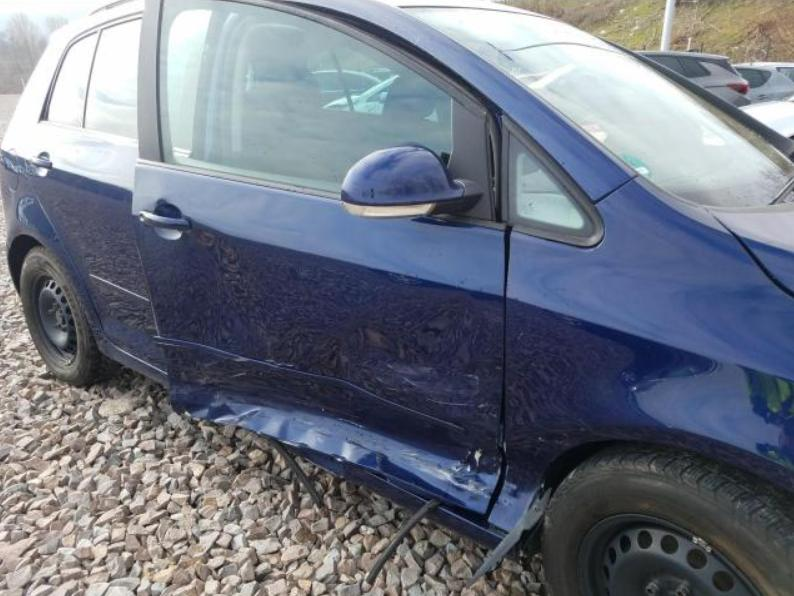Broken part: (313, 448, 548, 547), (480, 416, 510, 524), (486, 112, 508, 222), (501, 226, 518, 314)
Dent: (140, 194, 502, 515), (633, 360, 782, 457)
Flaking: (743, 367, 792, 412), (766, 449, 782, 463)
Scratch: (403, 450, 485, 495), (408, 366, 479, 386), (386, 364, 414, 387), (214, 408, 260, 422), (426, 396, 468, 408), (263, 356, 293, 369), (337, 417, 366, 428), (470, 447, 484, 467), (453, 460, 472, 474), (503, 441, 508, 479), (278, 439, 299, 447), (233, 356, 249, 363), (631, 385, 639, 392), (478, 404, 487, 409)
